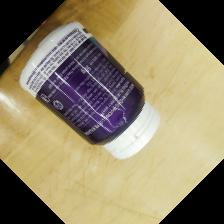Xylitol_BTS: (17, 19, 163, 164)
